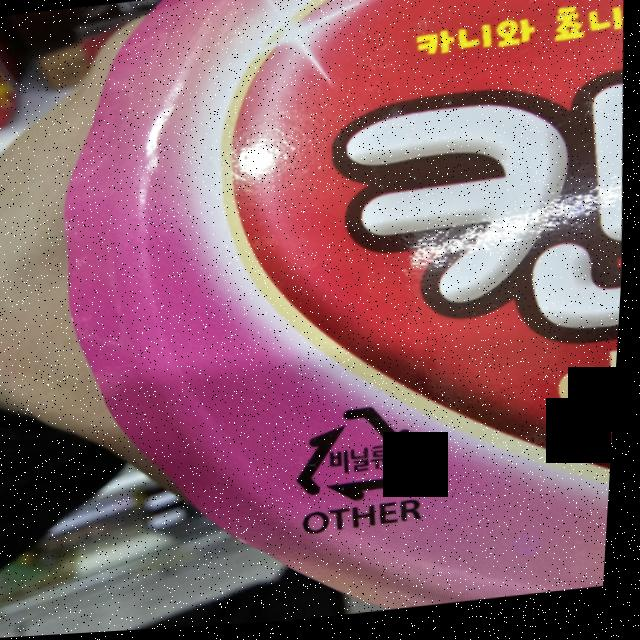Vinyl: (287, 395, 439, 518)
